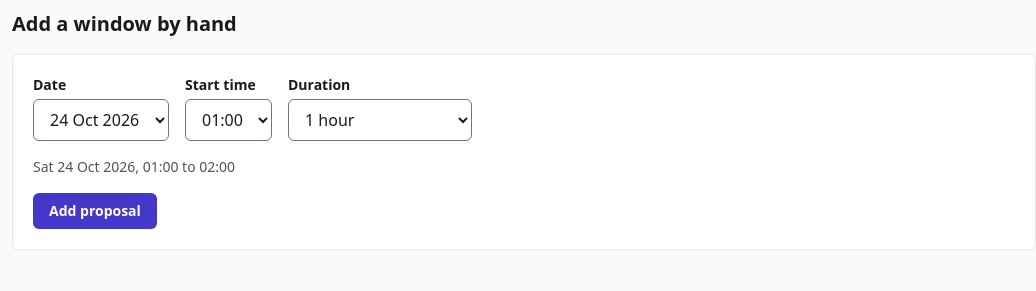
Test: ManualProposalForm › blocks a window running past the daily window's end before any request
Select "03:30" in the dropdown labelled "Start time" at (228, 120), box x1=185 y1=99 x2=272 y2=141
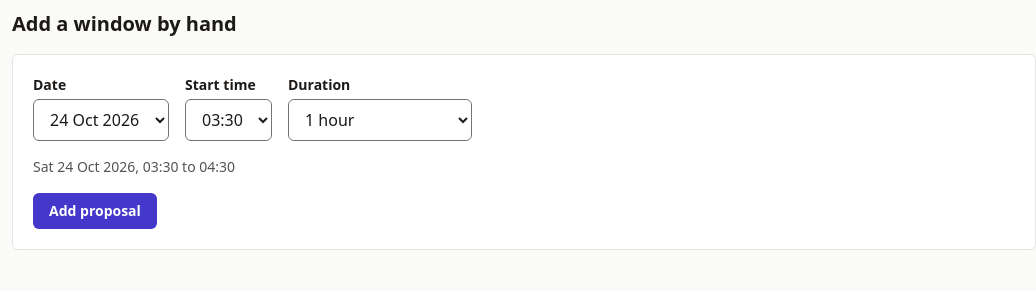
Select "1 hour 30 minutes" in the dropdown labelled "Duration" at (380, 120), box x1=288 y1=99 x2=472 y2=141
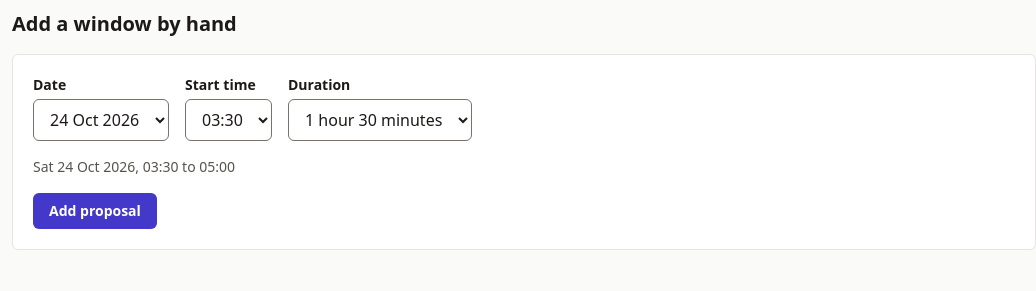
Click the button "Add proposal" at (95, 211), box x1=33 y1=193 x2=157 y2=229
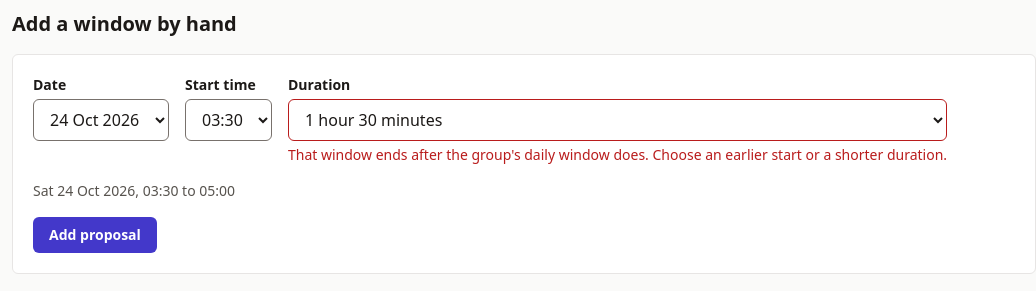
Expected: the text "ends after the group's daily window" is shown, x1=288 y1=145 x2=947 y2=164
